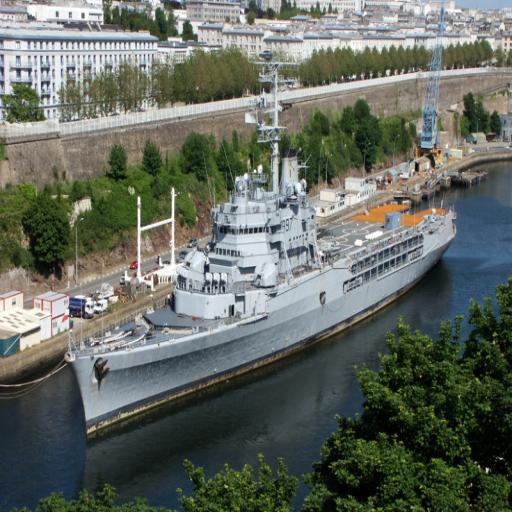Portanaves: (64, 29, 461, 449)
